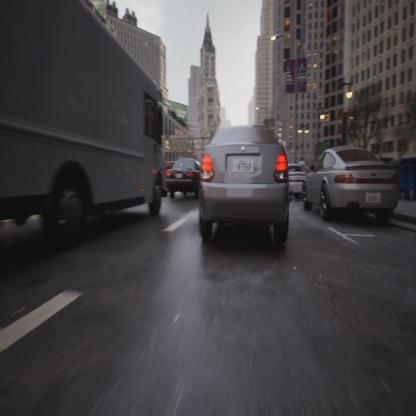License-Plate: (233, 157, 256, 175), (364, 188, 383, 208), (174, 172, 184, 182)
